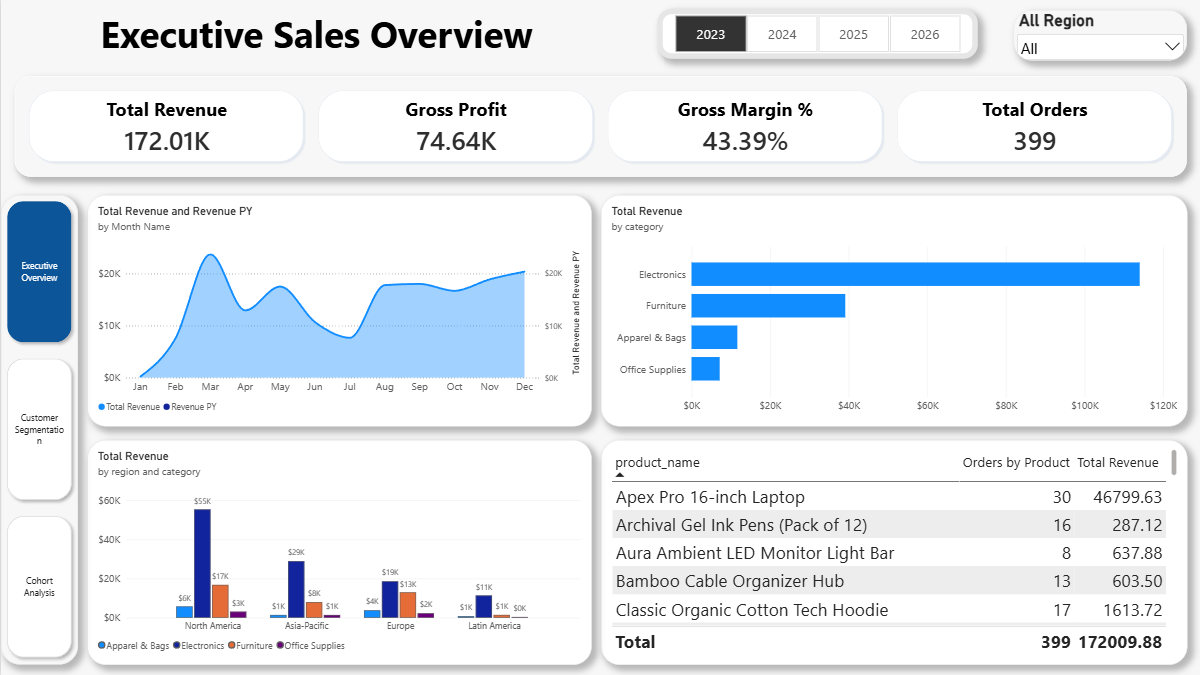

The page's visual inventory and layout, read from the dashboard file:
{"tool":"powerbi","page":{"name":"Executive Overview","canvas":[1920,1080],"ordinal":0},"visuals":[{"type":"slicer","fields":{"Values":["dim_date.Year"]},"box":[1049.7,14.4,512.5,80.3],"z":0},{"type":"slicer","fields":{"Values":["dim_customers.region"]},"box":[1619.9,16.5,277.9,81],"z":1000},{"type":"lineChart","fields":{"Category":["dim_date.Month Name"],"Y":["_Measures.Total Revenue"],"Y2":["_Measures.Revenue PY"]},"box":[137.9,312.9,806.9,370.5],"z":2000},{"type":"clusteredBarChart","fields":{"Category":["dim_products.category"],"Y":["_Measures.Total Revenue"]},"box":[959.2,312.9,938.6,370.5],"z":3000},{"type":"tableEx","fields":{"Values":["dim_products.product_name","_Measures.Orders by Product","_Measures.Total Revenue"]},"box":[959.2,703.9,938.6,360.2],"z":4000},{"type":"clusteredColumnChart","fields":{"Category":["dim_customers.region"],"Series":["dim_products.category"],"Y":["_Measures.Total Revenue"]},"box":[137.9,703.9,806.9,360.2],"z":5000},{"type":"cardVisual","fields":{"Data":["_Measures.Total Revenue","_Measures.Gross Profit","_Measures.Gross Margin %","_Measures.Total Orders"]},"box":[22.6,121.4,1875.1,160.5],"z":6000},{"type":"textbox","box":[22.6,14.4,965.4,82.3],"z":6001},{"type":"pageNavigator","box":[0,312.9,123.5,751.3],"z":6002}]}

Visuals, with their boxes in screenshot pixels (x1, y1, x2, y2), scaled from the page's 1920x1080 canvas onto the 1200x675 screenshot:
slicer - dim_date.Year: 656,9,976,59
slicer - dim_customers.region: 1012,10,1186,61
lineChart - dim_date.Month Name x _Measures.Total Revenue: 86,196,590,427
clusteredBarChart - dim_products.category x _Measures.Total Revenue: 600,196,1186,427
tableEx - dim_products.product_name x _Measures.Orders by Product: 600,440,1186,665
clusteredColumnChart - dim_customers.region x dim_products.category: 86,440,590,665
cardVisual - _Measures.Total Revenue x _Measures.Gross Profit: 14,76,1186,176
textbox: 14,9,618,60
pageNavigator: 0,196,77,665
